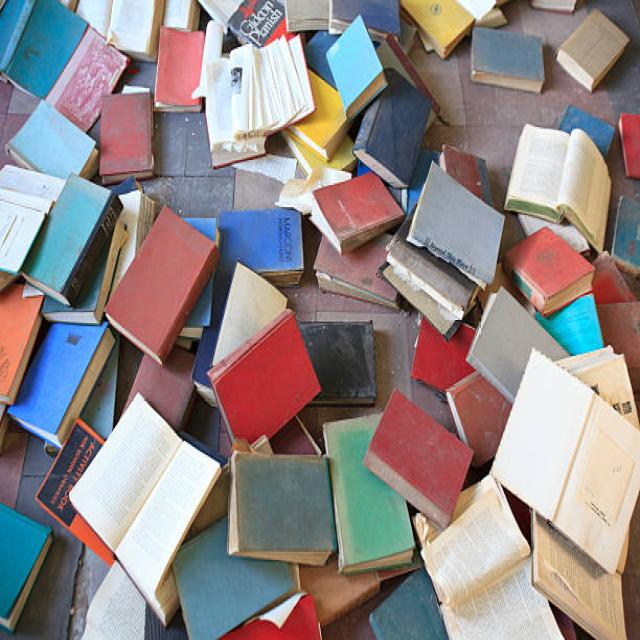electronic: (68, 390, 222, 626), (362, 388, 474, 530), (503, 122, 611, 254), (406, 158, 505, 290), (554, 6, 630, 93), (325, 12, 384, 118), (469, 25, 545, 93)
